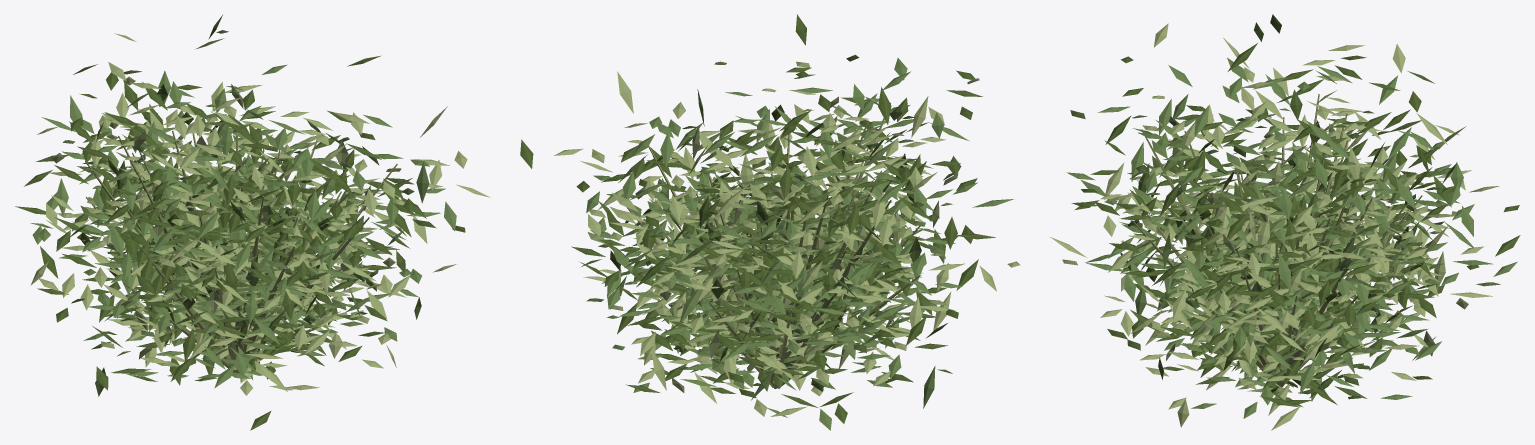
Rendered from olive-shrub.glb.
The picture shows the model from 3 angles, left to right: view 1: azimuth 30°, elevation 25°; view 2: azimuth 150°, elevation 25°; view 3: azimuth 270°, elevation 25°; orthographic projection. The views are drawn at different scales.
Parts seen in each view (by area): view 1: olive-shrub; view 2: olive-shrub; view 3: olive-shrub.
Part boxes in pixels (bbox=[...]): olive-shrub: bbox=[15, 15, 490, 430]; olive-shrub: bbox=[520, 14, 1020, 430]; olive-shrub: bbox=[1050, 14, 1520, 430].
Size of the model in its own units: 1.39 by 1.12 by 1.31.
Materials: 4 (1 with a texture image).
